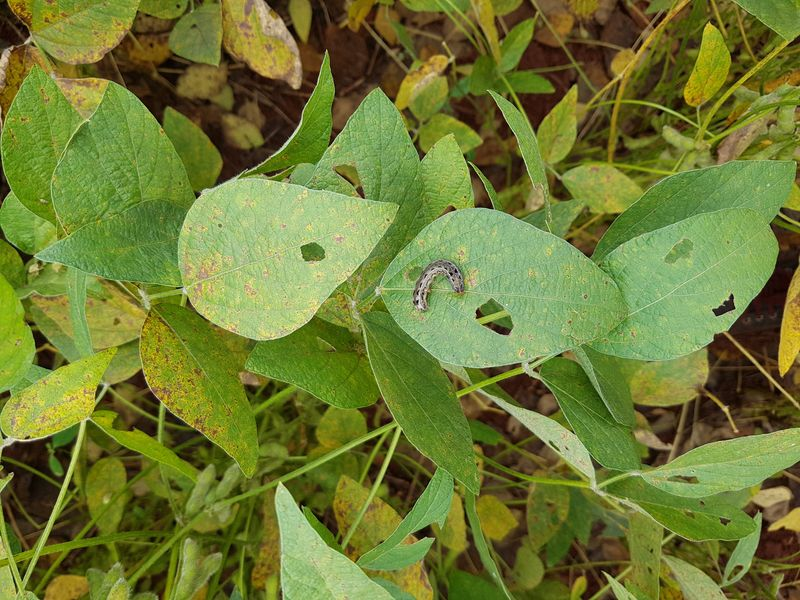Spodoptera_albula: (397, 251, 483, 327)
